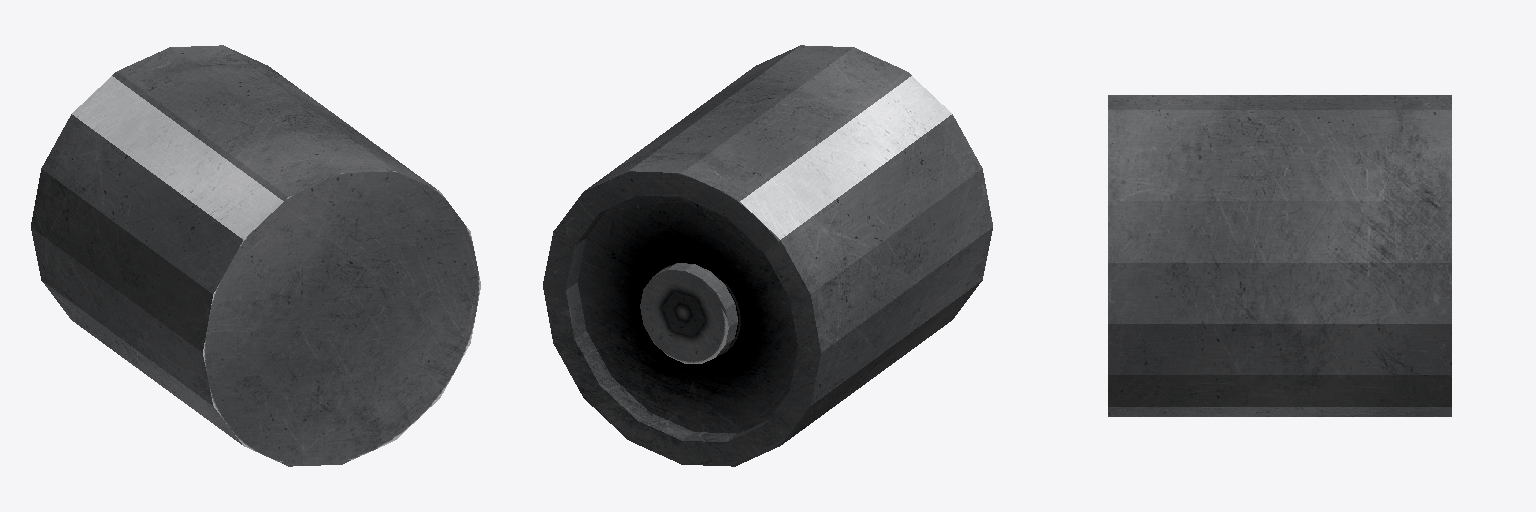
The picture shows the model from 3 angles: view 1: azimuth 30°, elevation 25°; view 2: azimuth 150°, elevation 25°; view 3: azimuth 270°, elevation 25°; orthographic projection.
Parts seen in each view (by area): view 1: fbrw_Cylinder.011; view 2: fbrw_Cylinder.011; view 3: fbrw_Cylinder.011.
Part boxes in pixels (left/top/right/bottom): fbrw_Cylinder.011: left=31, top=45, right=480, bottom=466; fbrw_Cylinder.011: left=543, top=45, right=992, bottom=466; fbrw_Cylinder.011: left=1108, top=95, right=1451, bottom=416.
Bounding box in the file's own units: 1.5 × 1.5 × 1.6.
1 materials, 1 textured.